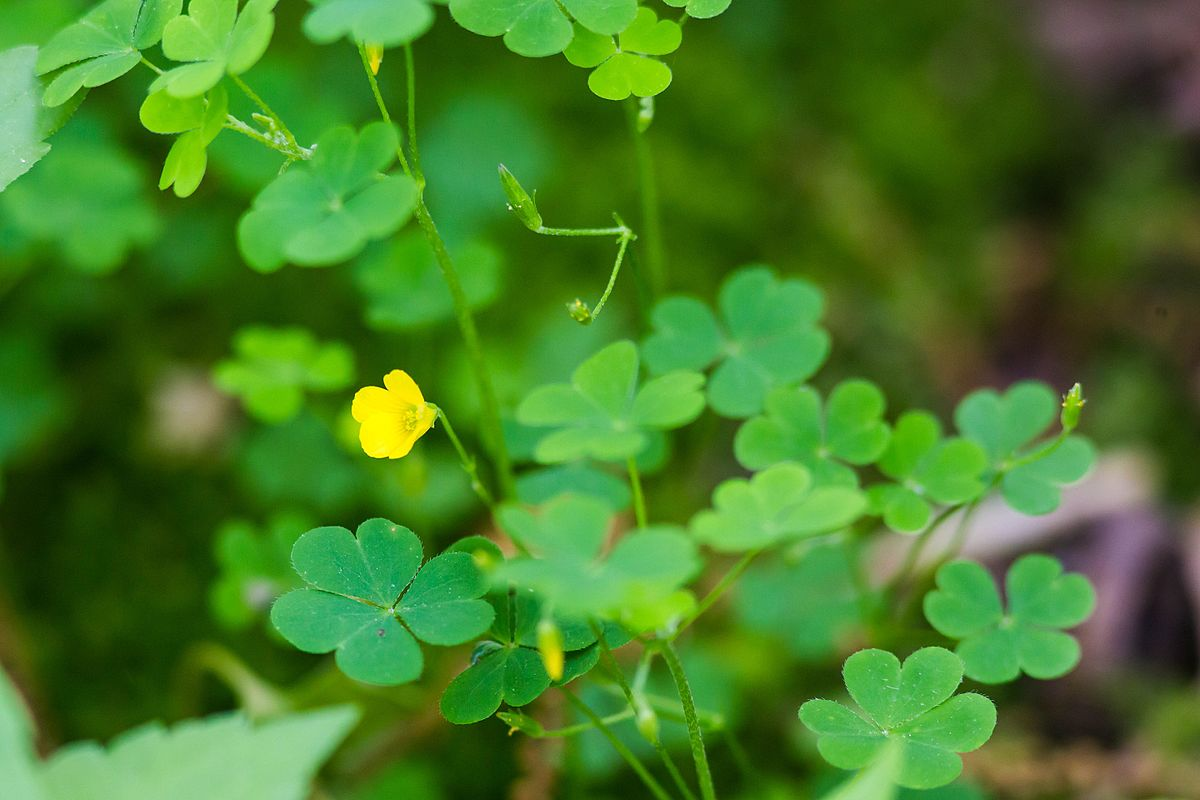oxalis: (113, 27, 1123, 799)
